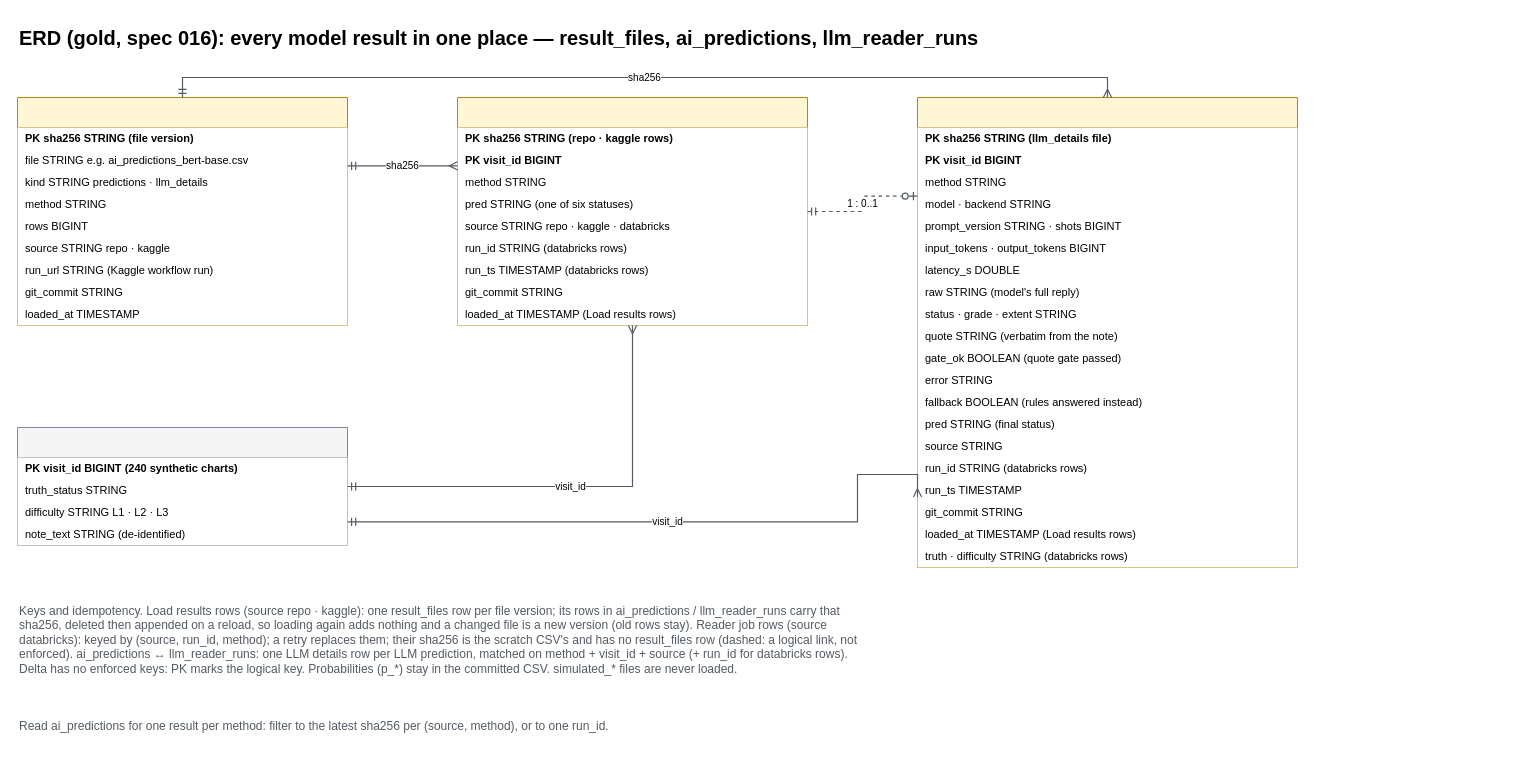
Some shapes in this 1535 by 759 pixel diagram are drawn without their labels. The shapes that lost their labels are listed below. From the top down, each one's box as (x1, y1, x2, y2) in pixels, then its label:
(16, 96, 348, 326): result_files
(456, 96, 808, 326): ai_predictions
(916, 96, 1298, 568): llm_reader_runs
(16, 426, 348, 546): review chart (not a table: answer_key/review_key.csv)
